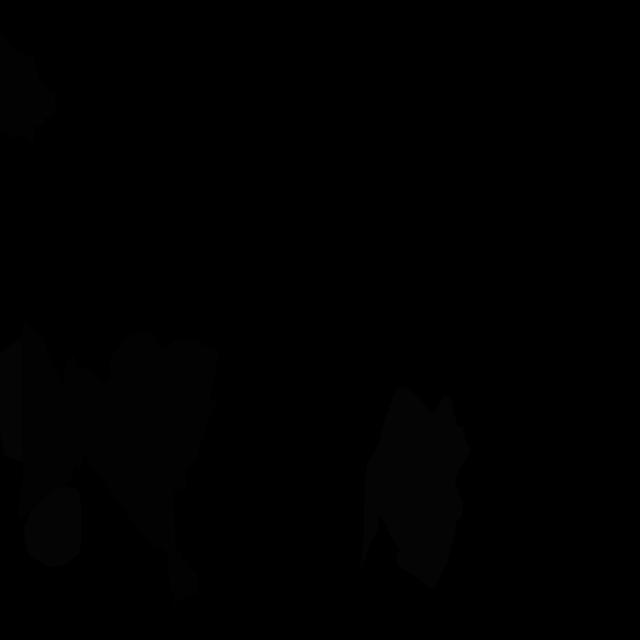cardboard: (56, 330, 219, 607), (19, 319, 84, 520), (0, 32, 56, 143)
soft_plastic: (361, 387, 471, 589), (24, 486, 82, 567), (0, 337, 23, 461)
